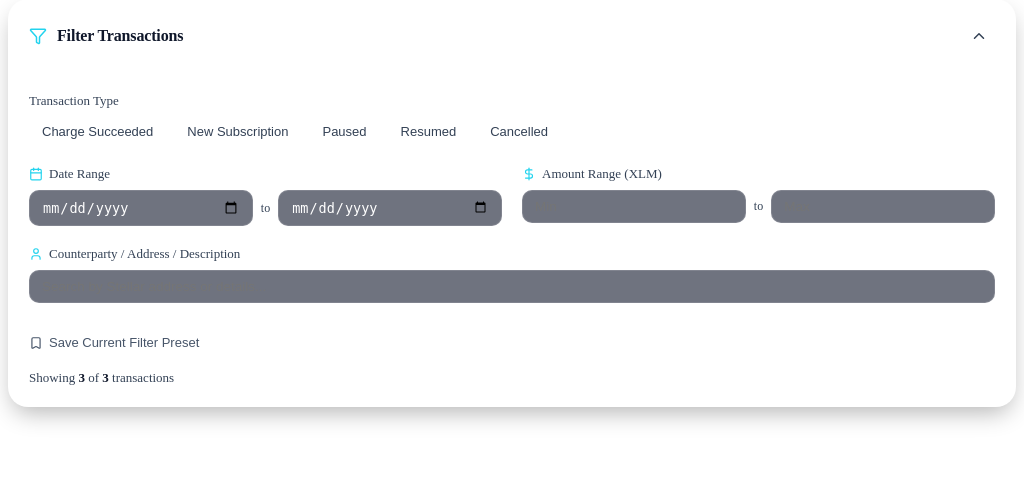
WalletTransactionFilterPanel › filters transactions by transaction type when type toggle button is clicked
# Click 'Charge Succeeded' type filter button
Click the button "Charge Succeeded": (98, 132) 29,117 -> 166,146
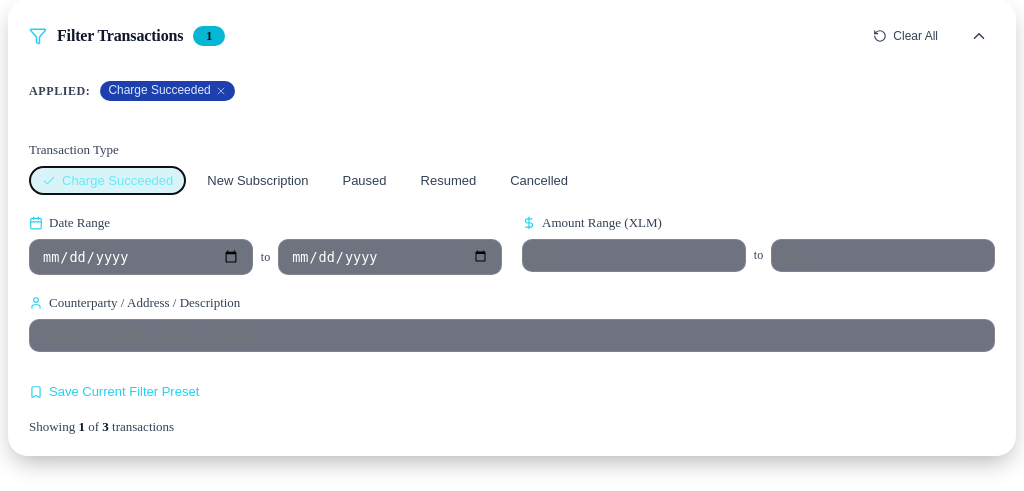
Check: the message named "tag: charge succeeded" is shown, box 100,81 -> 235,101
